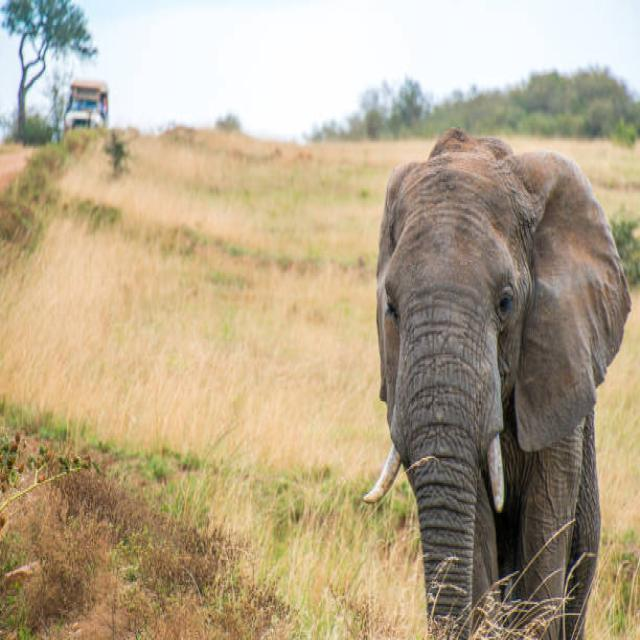Elephant: (355, 106, 626, 640)
